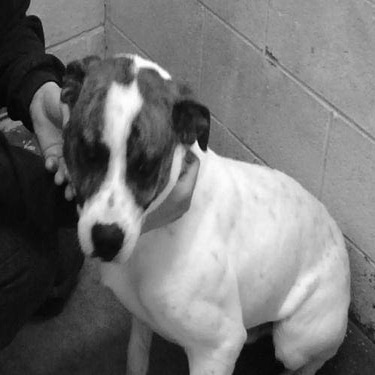dog: (26, 46, 356, 372)
